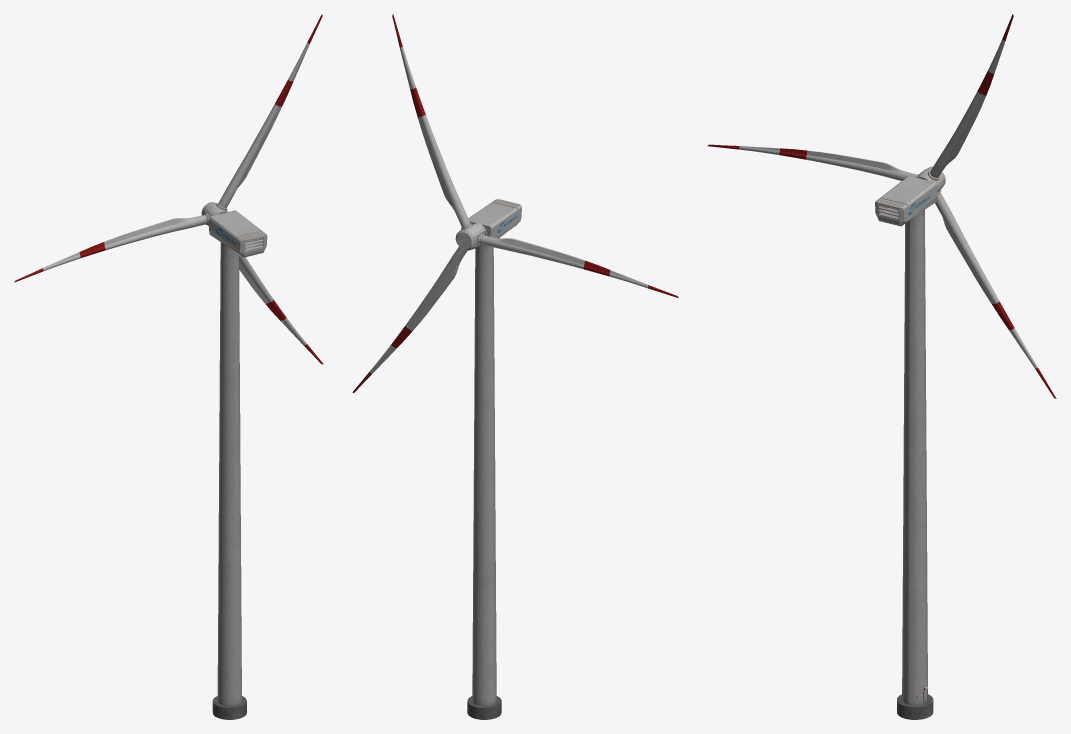
3 renders of one model, left to right at view 1: azimuth 30°, elevation 25°; view 2: azimuth 150°, elevation 25°; view 3: azimuth 330°, elevation 25°, orthographic. The views are drawn at different scales.
Parts seen in each view (by area): view 1: Obj3d66-7496742-1-452, 网格001; view 2: Obj3d66-7496742-1-452, 网格001; view 3: Obj3d66-7496742-1-452, 网格001.
Part boxes in pixels (box(x1,y1,x2,y2)): Obj3d66-7496742-1-452: box(14, 210, 267, 719); 网格001: box(15, 14, 323, 364); Obj3d66-7496742-1-452: box(467, 199, 678, 719); 网格001: box(352, 14, 677, 392); Obj3d66-7496742-1-452: box(875, 176, 937, 719); 网格001: box(707, 14, 1056, 398).
Size of the model in its own units: 82.69 by 20.63 by 168.
2 materials, 1 textured.
